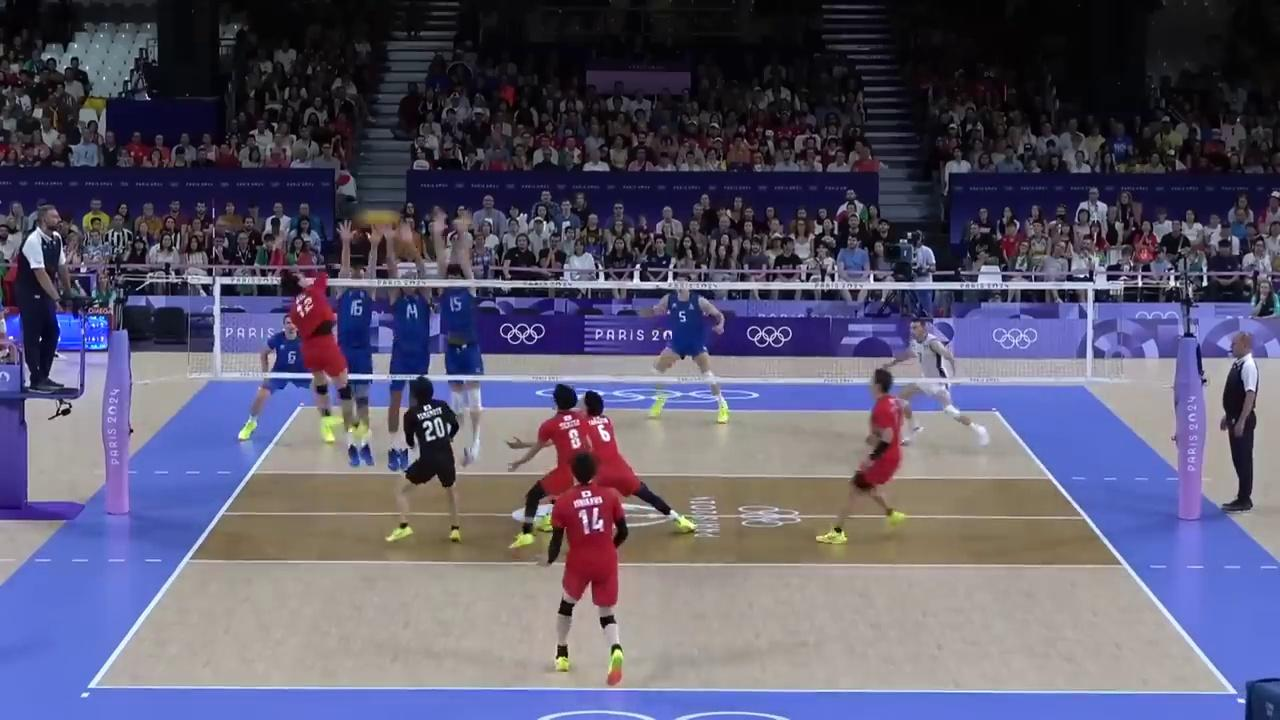ball: (358, 210, 401, 228)
